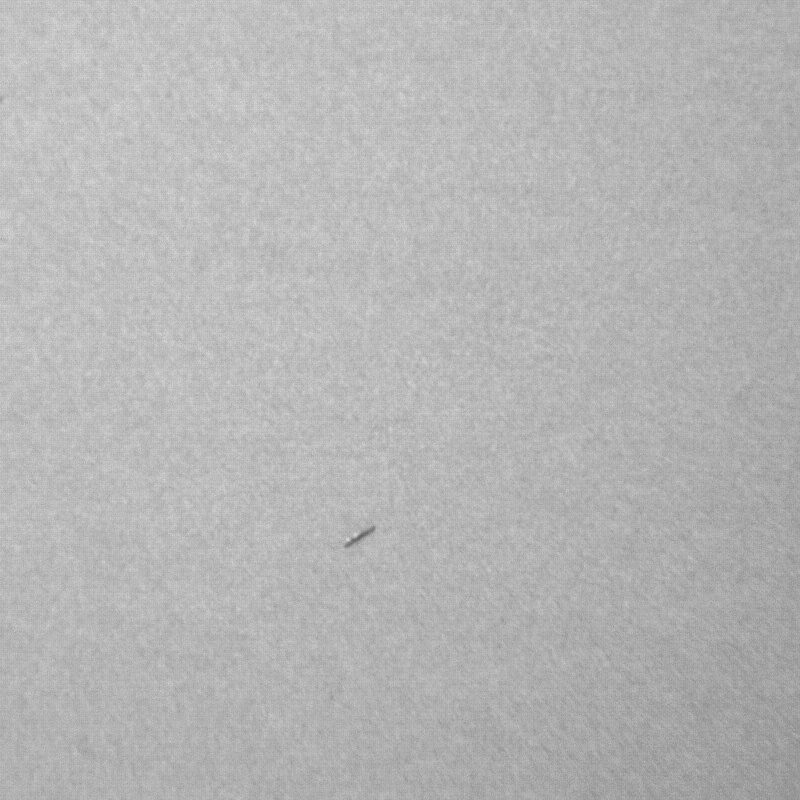defect: (344, 525, 376, 547)
